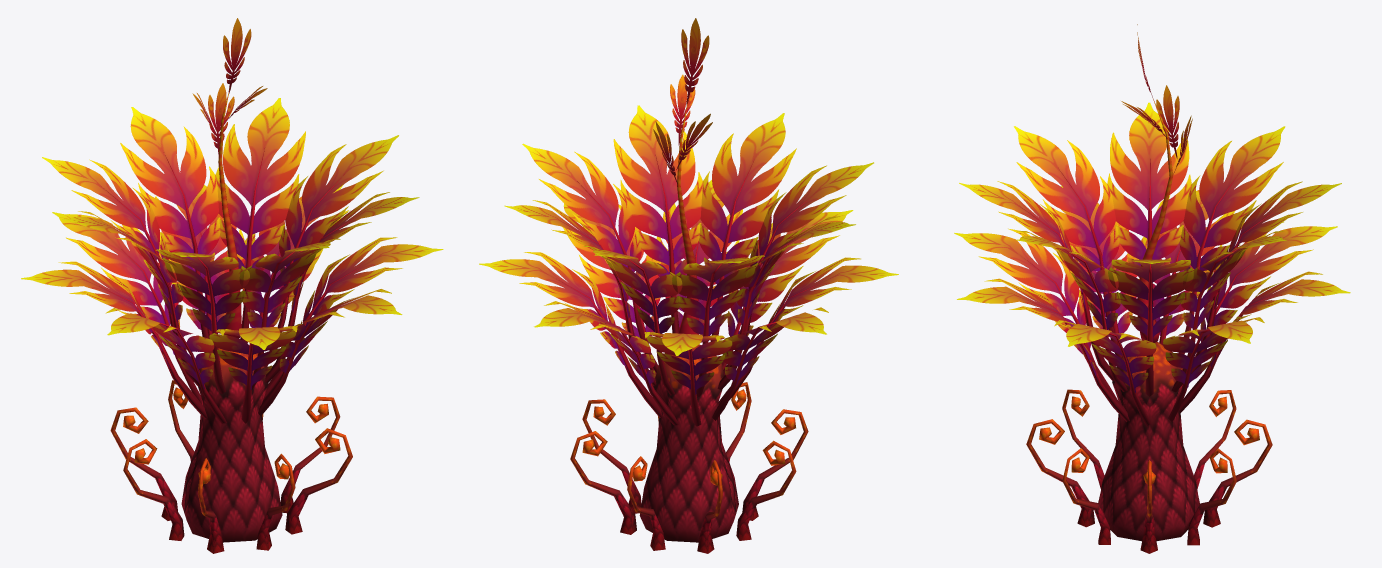
The model's file is Red_Tree_04b.FBX.
The picture shows the model from 3 angles, left to right: view 1: azimuth 30°, elevation 25°; view 2: azimuth 150°, elevation 25°; view 3: azimuth 270°, elevation 25°; orthographic projection.
Visible parts, largest first — view 1: Red_Tree_04b; view 2: Red_Tree_04b; view 3: Red_Tree_04b.
Part boxes in pixels (bbox=[...]): Red_Tree_04b: bbox=[21, 18, 443, 553]; Red_Tree_04b: bbox=[479, 18, 898, 553]; Red_Tree_04b: bbox=[954, 24, 1350, 553].
Size of the model in its own units: 303 by 389 by 304.
